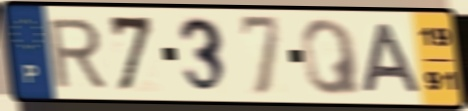3: (176, 14, 234, 97)
7: (236, 12, 283, 99), (108, 13, 156, 94)
A: (361, 21, 425, 96)
Q: (298, 16, 365, 98)
R: (45, 15, 109, 90)
